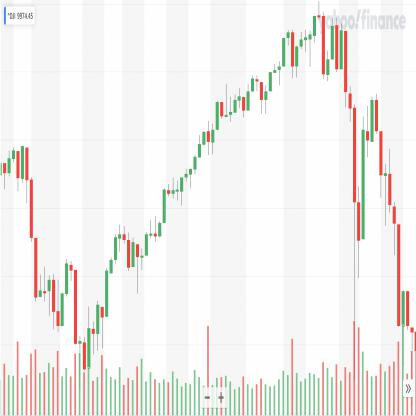Bearish: 3 Black Crows: (343, 27, 357, 318), (388, 144, 402, 332), (24, 143, 38, 305)
Bearish: Engulfing: (330, 15, 339, 79)
Bearish: Shooting Star: (312, 0, 326, 85)
Bearish: Tweezer Top: (369, 92, 379, 146)
Bullish: 3 White Soldiers: (104, 231, 118, 322)
